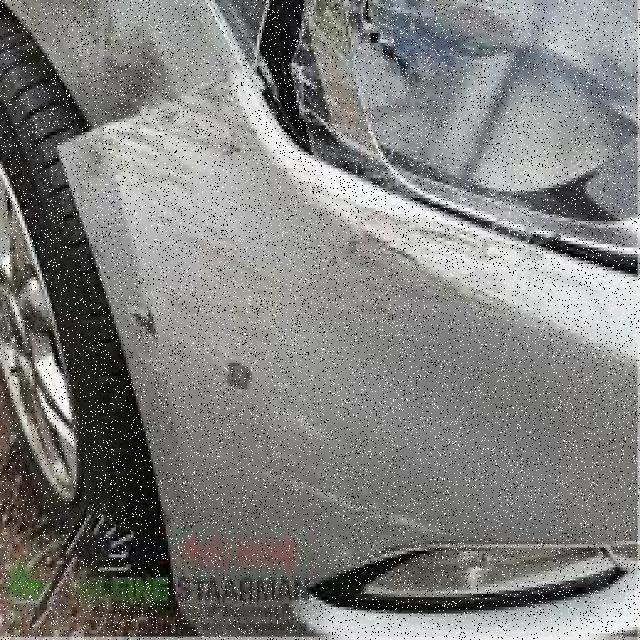car damage: (0, 63, 638, 637), (223, 0, 638, 287)
